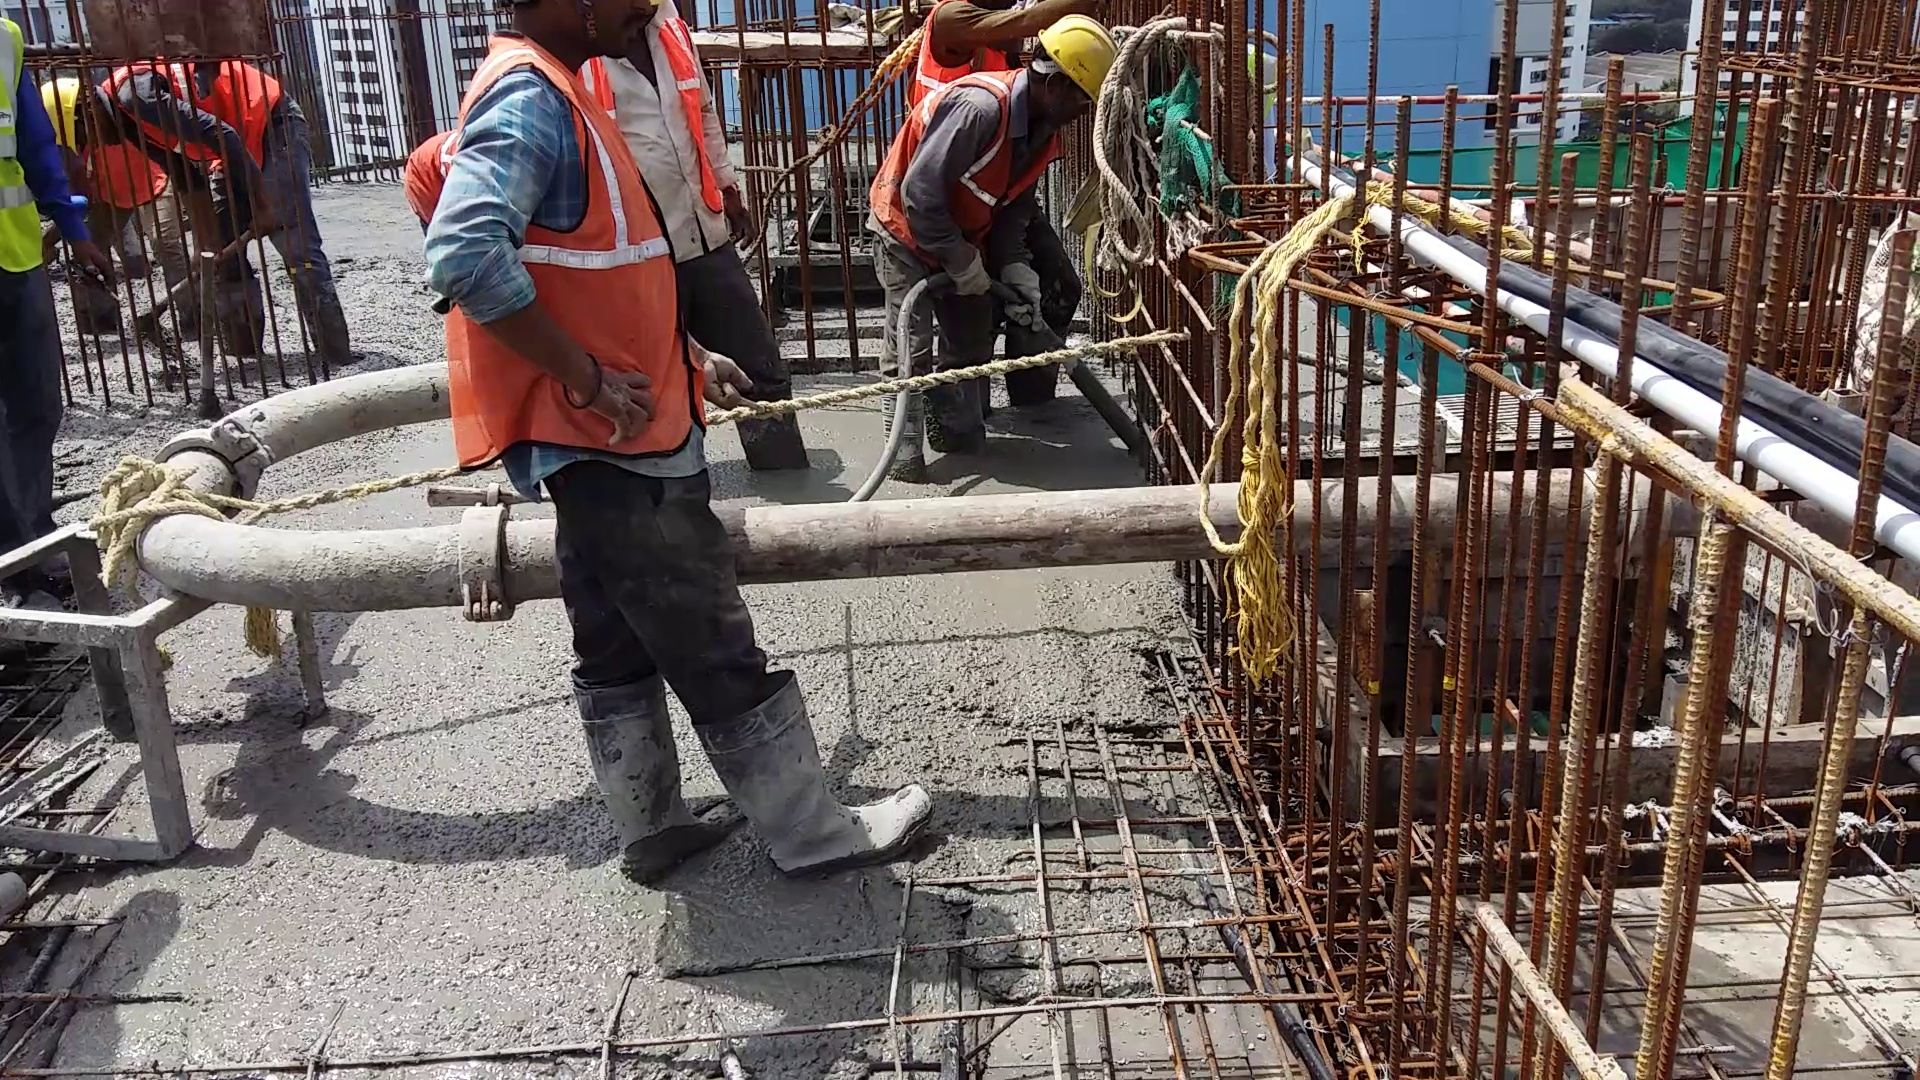SAFE: (865, 15, 1116, 261)
